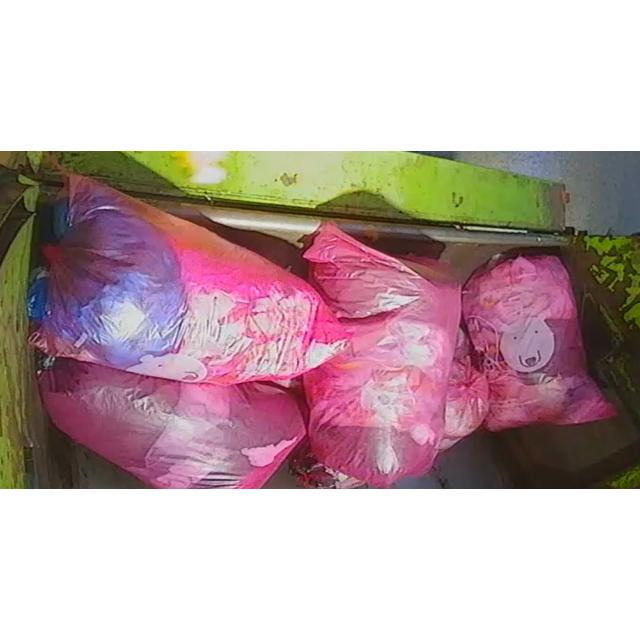other_trashbag: (30, 175, 346, 384), (304, 222, 460, 484), (39, 358, 306, 488), (464, 256, 615, 431), (439, 328, 489, 452)
